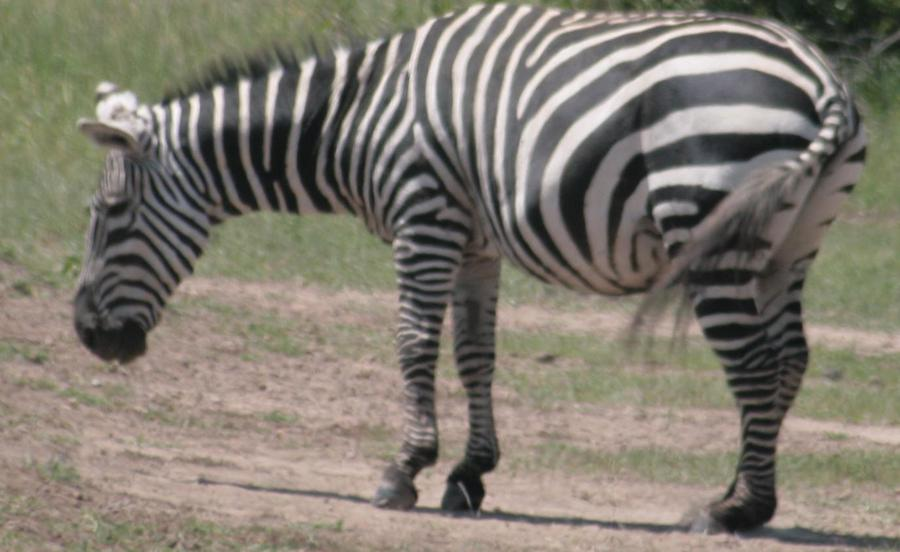zebra_plains: (341, 30, 810, 398)
